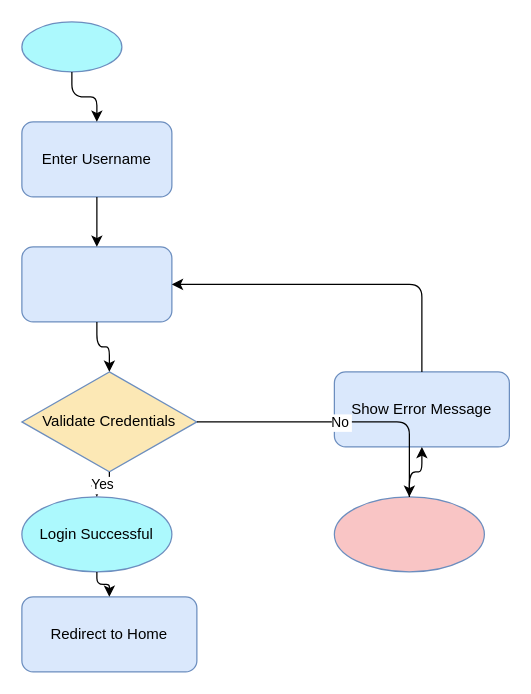
Some shapes in this 531 by 694 pixel diagram are drawn without their labels. The shapes that lost their labels are listed below. From the top down, each one's box as (x1, y1, x2, y2) in pixels, then its label:
(21, 21, 122, 72): Start
(21, 246, 172, 322): Enter Password
(333, 496, 484, 572): Login Failed
